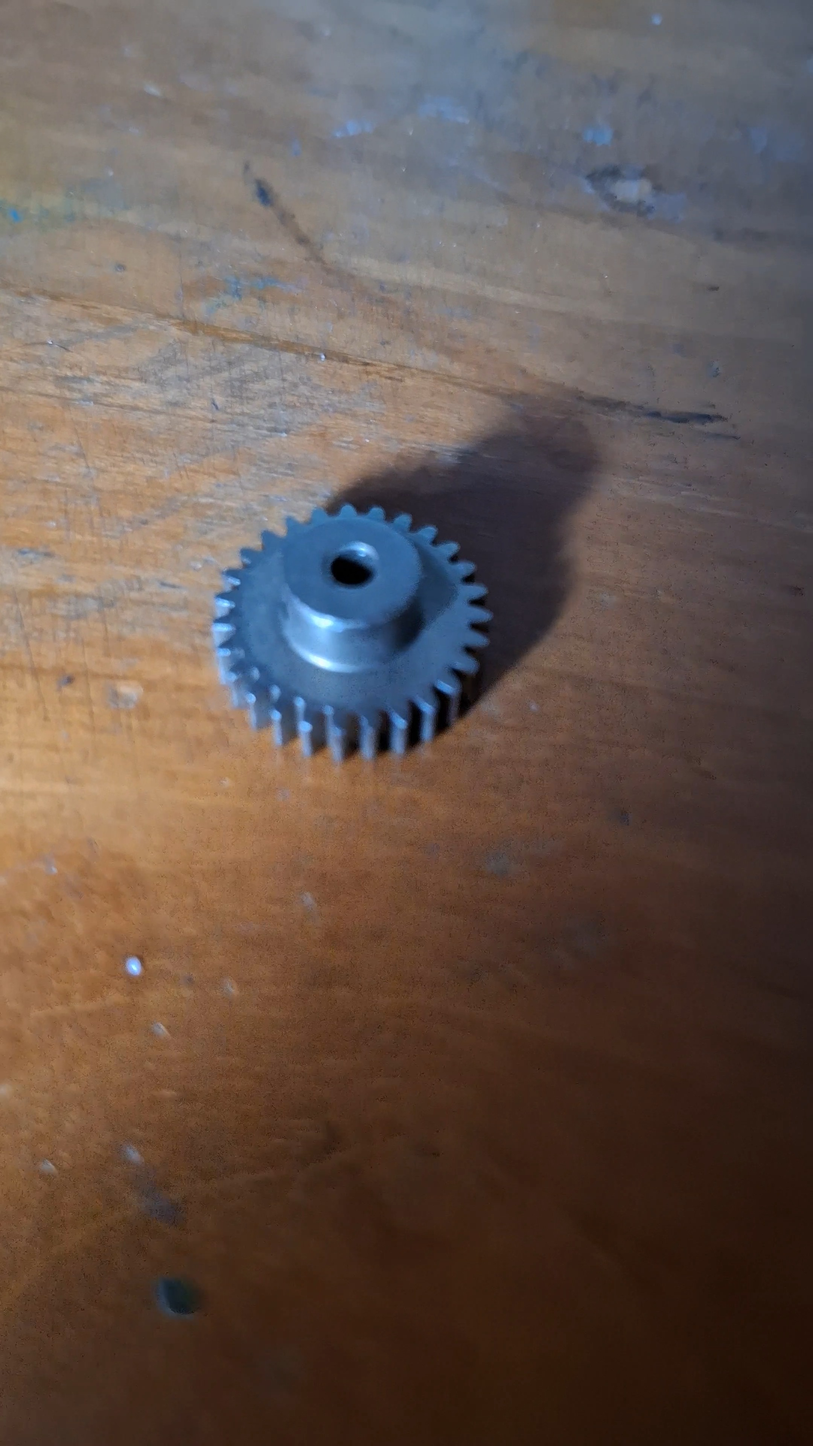spur gear: (213, 504, 491, 760)
